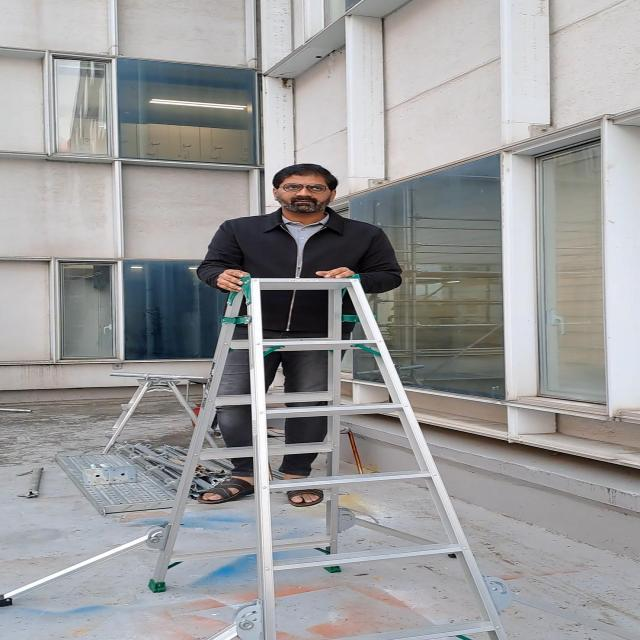boots: (0, 262, 512, 640)
vest: (197, 163, 403, 505)
